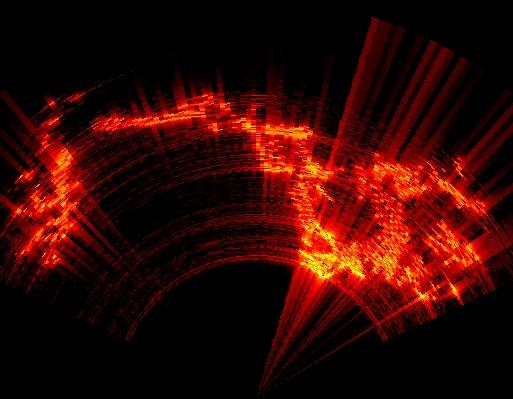shipwreck: (93, 95, 483, 299), (15, 134, 79, 264), (427, 222, 480, 295)
